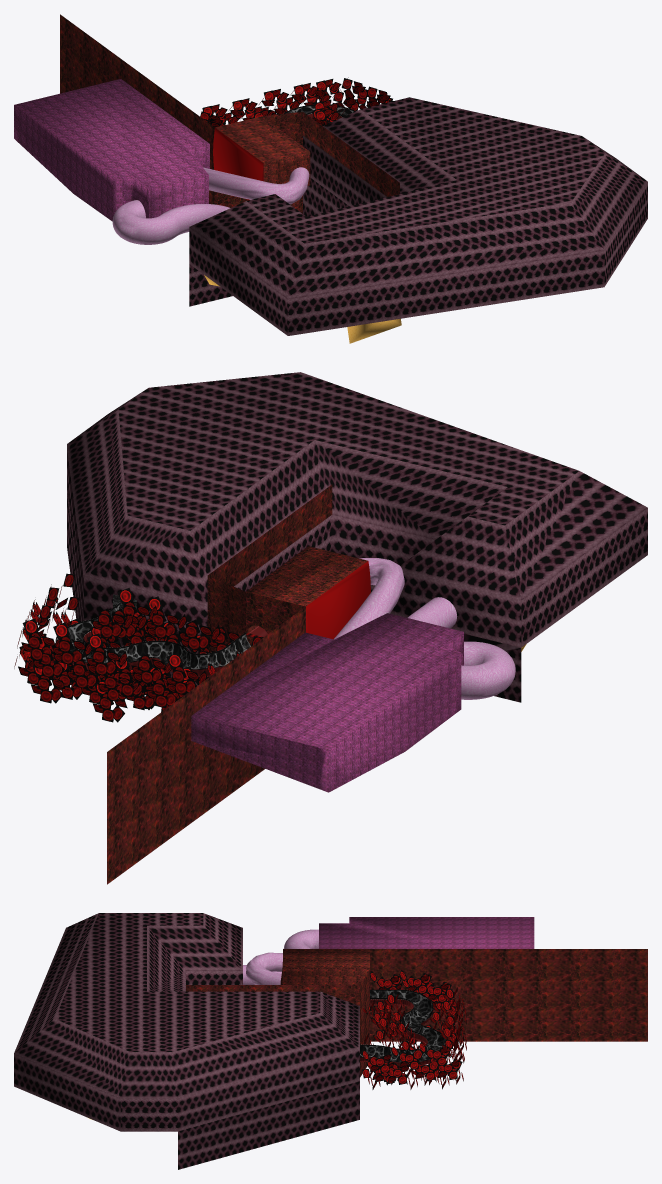
3 views of the same model, one above another, from view 1: azimuth 30°, elevation 25°; view 2: azimuth 150°, elevation 25°; view 3: azimuth 270°, elevation 25° (orthographic). The views are drawn at different scales.
Parts seen in each view (by area): view 1: Untitled-SKP--Material27.002, Untitled-SKP--Material27.008, Untitled-SKP--Material27.017, Untitled-SKP--Material27.018, Untitled-SKP--Material27.034, Untitled-SKP--Material27.024, Untitled-SKP--Material27.028; view 2: Untitled-SKP--Material27.002, Untitled-SKP--Material27.008, Untitled-SKP--Material27.017, Untitled-SKP--Material27.034, Untitled-SKP--Material27.018, Untitled-SKP--Material27.024, Untitled-SKP--Material27.030; view 3: Untitled-SKP--Material27.002, Untitled-SKP--Material27.017, Untitled-SKP--Material27.034, Untitled-SKP--Material27.008, Untitled-SKP--Material27.030, Untitled-SKP--Material27.018, Untitled-SKP--Material27.005, Untitled-SKP--Material27.003.
Boxes of the visible parts, <box> form: Untitled-SKP--Material27.002: <box>189,97,647,335</box>; Untitled-SKP--Material27.008: <box>14,79,209,221</box>; Untitled-SKP--Material27.017: <box>60,14,399,213</box>; Untitled-SKP--Material27.018: <box>112,167,309,244</box>; Untitled-SKP--Material27.034: <box>200,77,393,127</box>; Untitled-SKP--Material27.024: <box>213,128,263,200</box>; Untitled-SKP--Material27.028: <box>204,275,401,343</box>; Untitled-SKP--Material27.002: <box>67,372,647,702</box>; Untitled-SKP--Material27.008: <box>191,613,463,792</box>; Untitled-SKP--Material27.017: <box>107,484,367,884</box>; Untitled-SKP--Material27.034: <box>14,573,262,722</box>; Untitled-SKP--Material27.018: <box>334,558,515,699</box>; Untitled-SKP--Material27.024: <box>306,561,370,639</box>; Untitled-SKP--Material27.030: <box>56,605,251,669</box>; Untitled-SKP--Material27.002: <box>14,913,359,1169</box>; Untitled-SKP--Material27.017: <box>186,949,647,1077</box>; Untitled-SKP--Material27.034: <box>362,970,466,1089</box>; Untitled-SKP--Material27.008: <box>319,917,534,948</box>; Untitled-SKP--Material27.030: <box>360,990,445,1062</box>; Untitled-SKP--Material27.018: <box>243,929,318,984</box>; Untitled-SKP--Material27.005: <box>360,999,437,1066</box>; Untitled-SKP--Material27.003: <box>360,989,446,1050</box>.
Bounding box in the file's own units: 77847 × 20001 × 113143.
34 materials, 34 textured.
